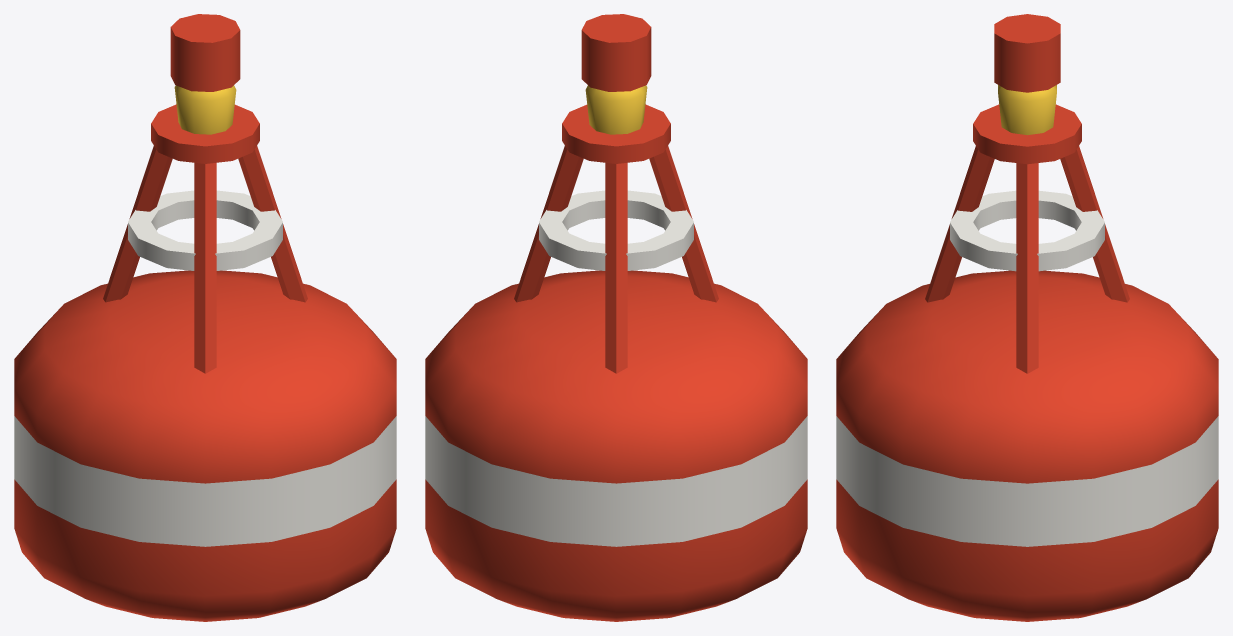
Rendered from buoy.glb.
The picture shows the model from 3 angles, left to right: view 1: azimuth 30°, elevation 25°; view 2: azimuth 150°, elevation 25°; view 3: azimuth 270°, elevation 25°; orthographic projection.
Parts seen in each view (by area): view 1: buoy; view 2: buoy; view 3: buoy.
Boxes of the visible parts, x1=… form: buoy: x1=14, y1=14, x2=396, y2=621; buoy: x1=425, y1=14, x2=807, y2=621; buoy: x1=836, y1=14, x2=1218, y2=621.
Bounding box in the file's own units: 1 × 1.5 × 0.9848.
